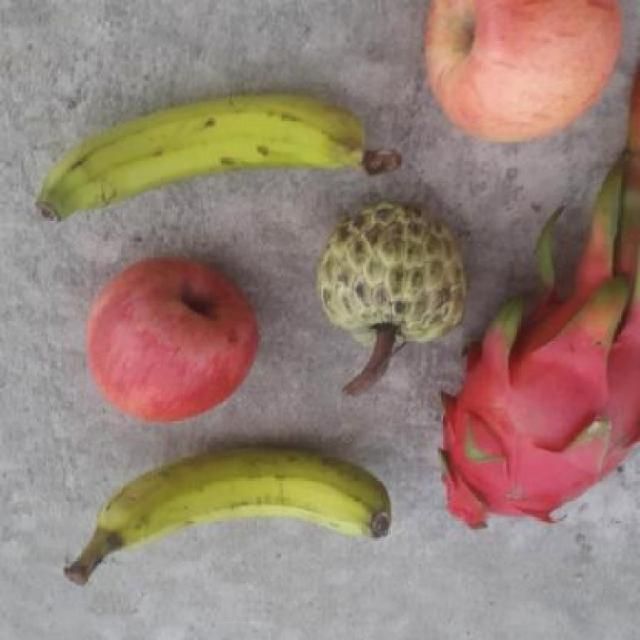apple: (396, 0, 627, 143), (84, 253, 258, 424)
banana: (58, 440, 394, 583), (35, 87, 370, 221)
dragon fruit: (440, 292, 638, 536)
sugar apple: (317, 199, 469, 353)
